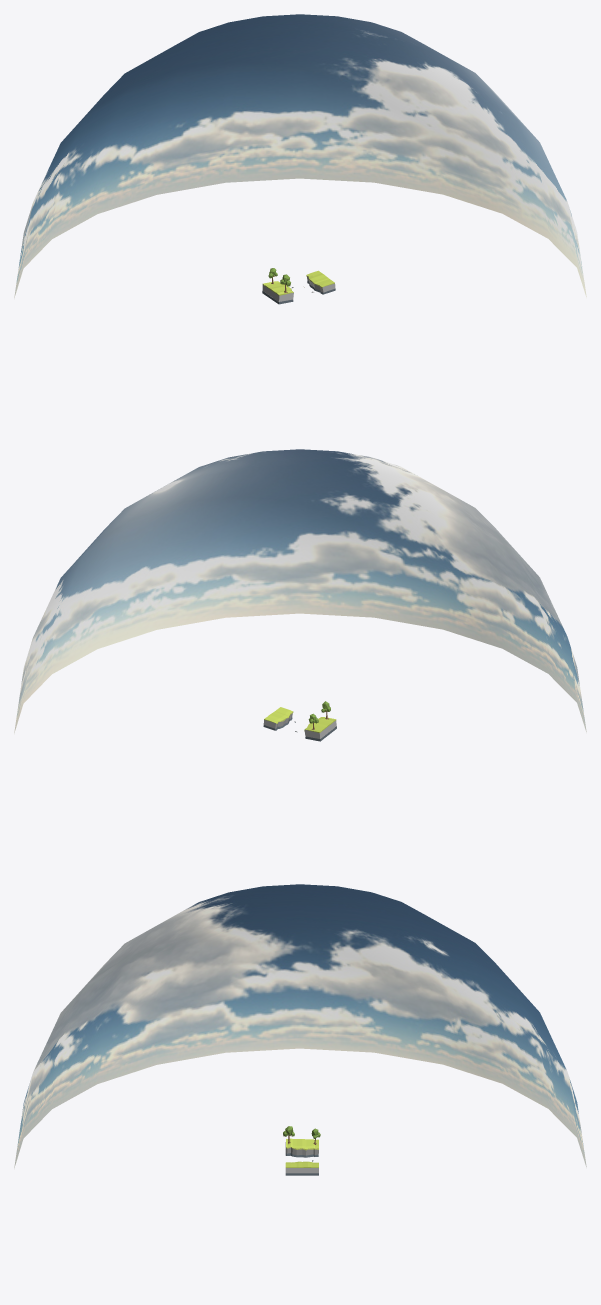
Rendered from forGandalf.glb.
3 views of the same model, one above another, from view 1: azimuth 30°, elevation 25°; view 2: azimuth 150°, elevation 25°; view 3: azimuth 270°, elevation 25° (orthographic).
Parts seen in each view (by area): view 1: Skybox_48; view 2: Skybox_48; view 3: Skybox_48.
Part boxes in pixels (x1,y1,x2,y2): Skybox_48: (14, 14, 586, 298); Skybox_48: (14, 449, 586, 733); Skybox_48: (14, 884, 586, 1168).
Size of what is drawn, in the model's own units: 133 by 66.65 by 133.
8 materials, 2 textured.
